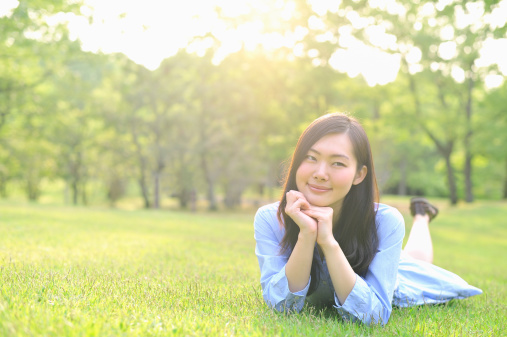deitado: (248, 115, 419, 318)
